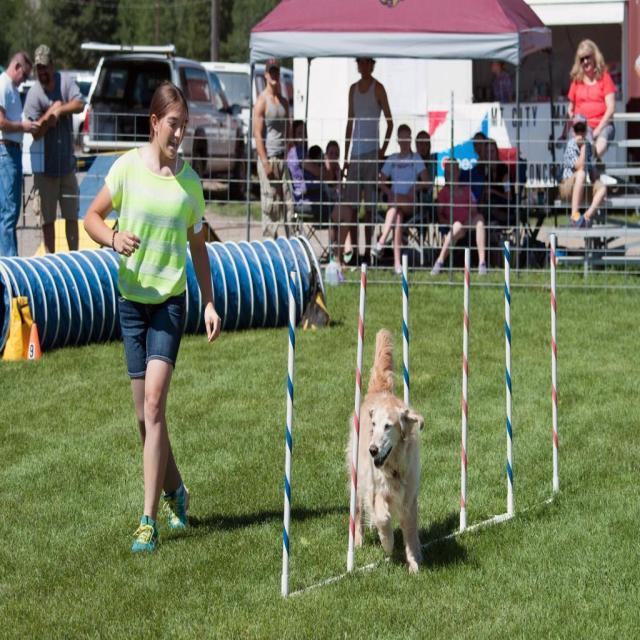Dog: (342, 326, 424, 577)
